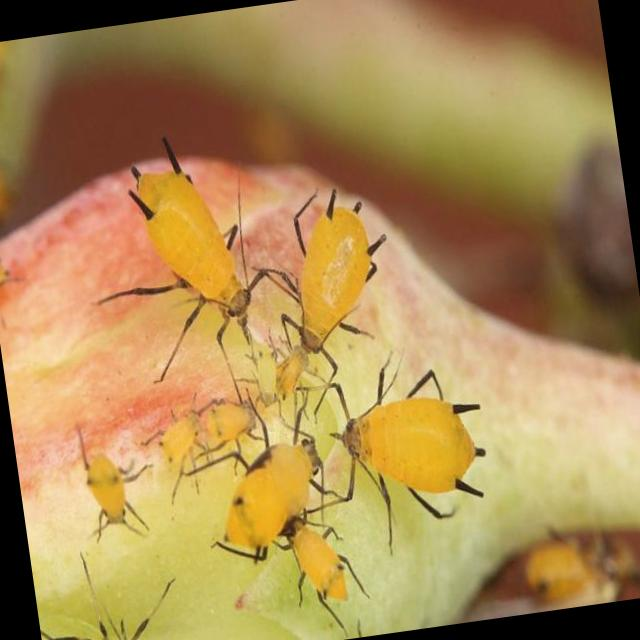aphid: (70, 133, 300, 396), (237, 163, 413, 402), (303, 351, 508, 541), (185, 418, 339, 572), (66, 430, 159, 558), (194, 391, 260, 456), (151, 408, 205, 482), (358, 612, 358, 614)
